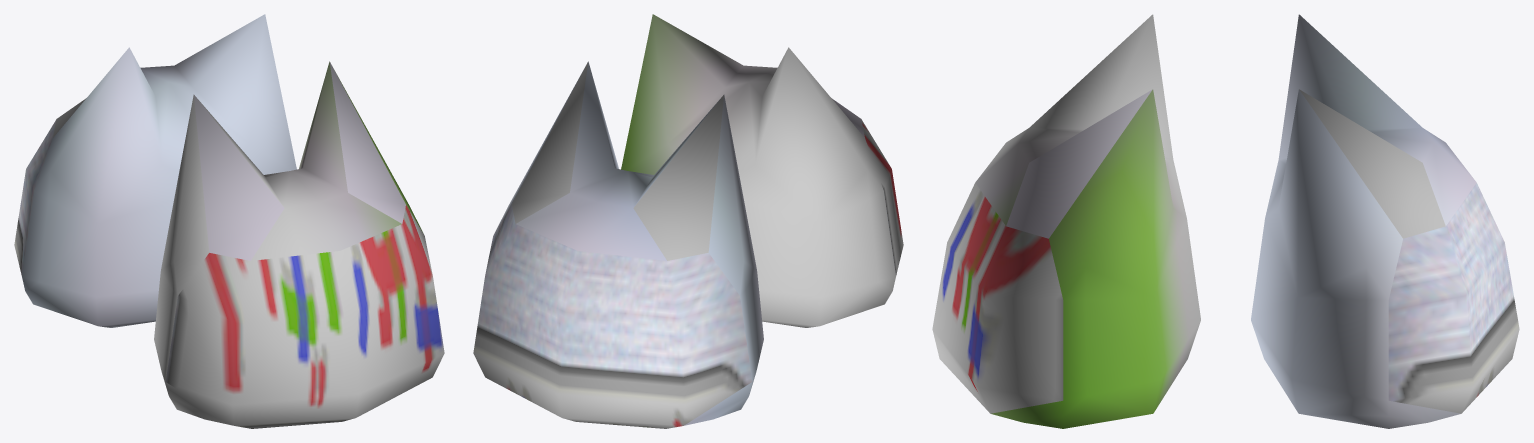
Rendered from delete.ico.obj.
The picture shows the model from 3 angles, left to right: view 1: azimuth 30°, elevation 25°; view 2: azimuth 150°, elevation 25°; view 3: azimuth 270°, elevation 25°; orthographic projection. The views are drawn at different scales.
Bounding box in the file's own units: 2.8 × 2.92 × 4.63.
